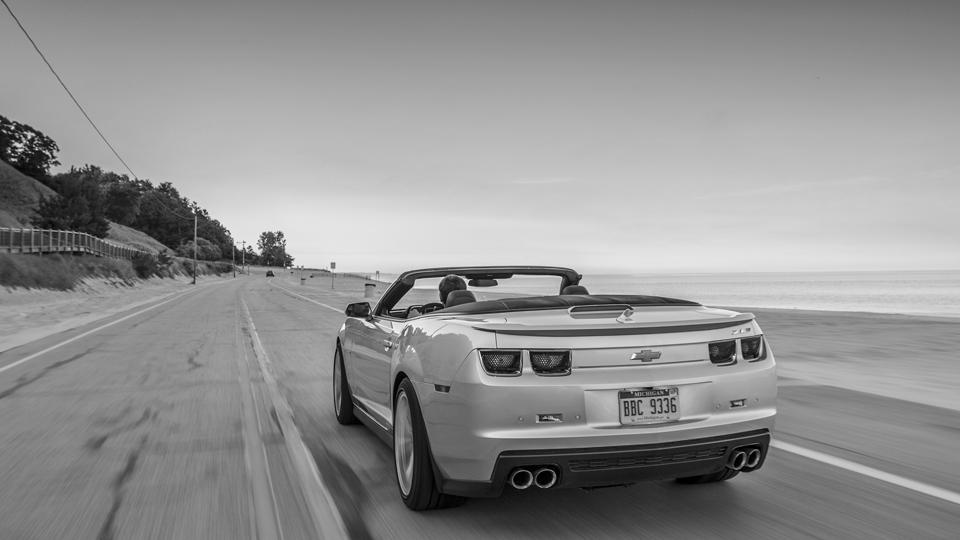car: (330, 263, 780, 515)
